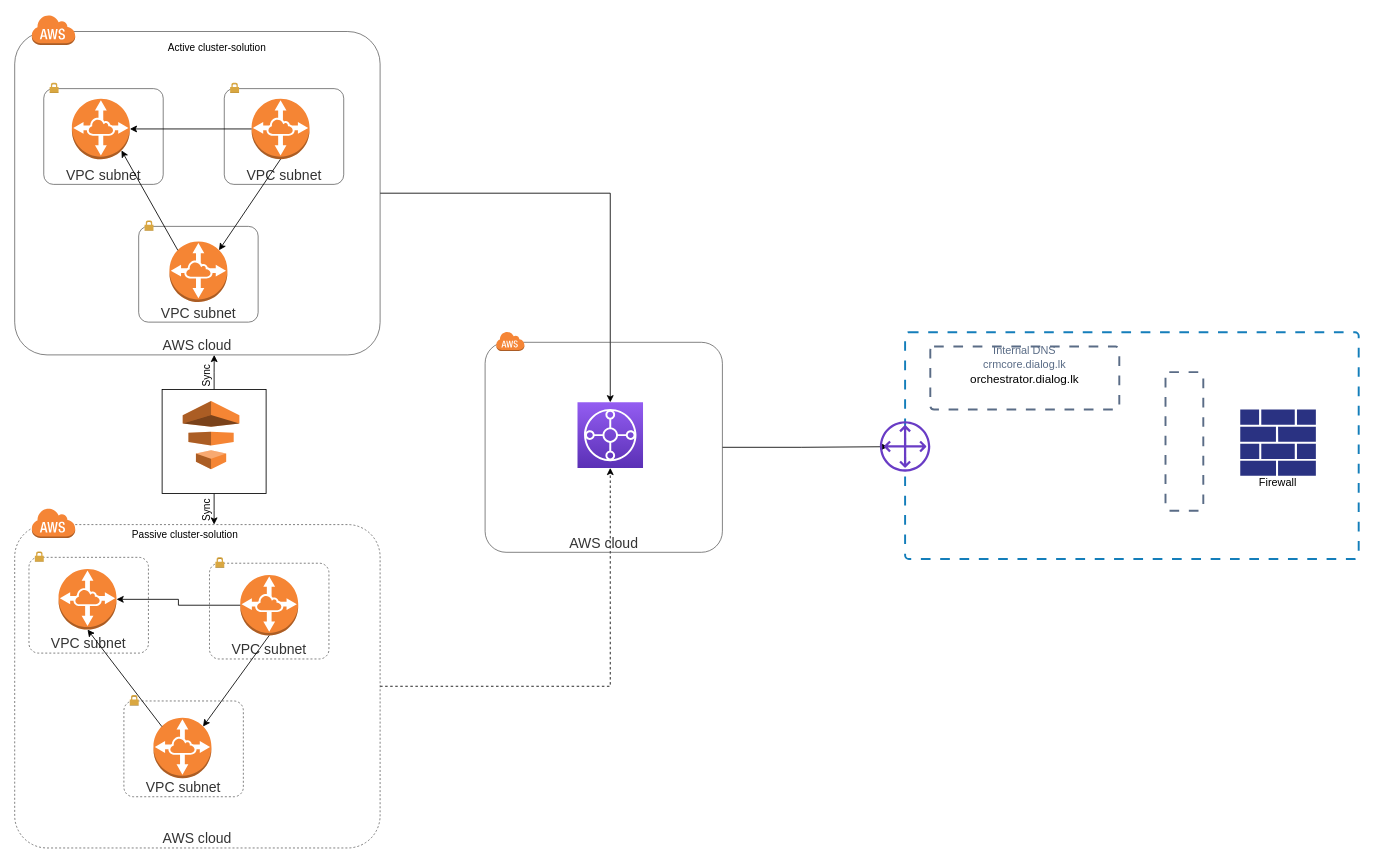
This 1374x863 diagram has some shape labels left out. The shapes that lost their labels are listed below. From the top down, each one's box as (x1, y1, x2, y2) in pixels, then its label:
(904, 331, 1359, 560): OnPrem Network
(1162, 375, 1199, 511): Virtual IP
(190, 475, 232, 492): CI/CD
